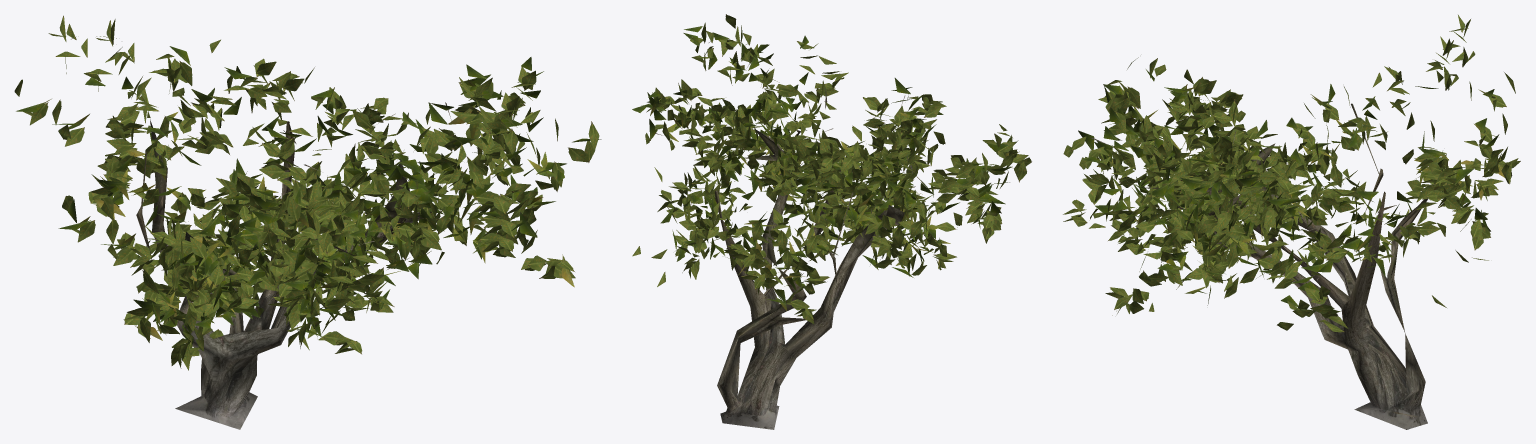
File: forest-distant.glb
The picture shows the model from 3 angles, left to right: view 1: azimuth 30°, elevation 25°; view 2: azimuth 150°, elevation 25°; view 3: azimuth 270°, elevation 25°; orthographic projection. The views are drawn at different scales.
Parts seen in each view (by area): view 1: island_tree_02_LOD0; view 2: island_tree_02_LOD0; view 3: island_tree_02_LOD0.
Part boxes in pixels (x1=…): island_tree_02_LOD0: x1=14, y1=15, x2=601, y2=429; island_tree_02_LOD0: x1=632, y1=14, x2=1031, y2=429; island_tree_02_LOD0: x1=1063, y1=15, x2=1520, y2=429.
Bounding box in the file's own units: 3.8 × 3.39 × 4.1.
Materials: 3 (3 with a texture image).
